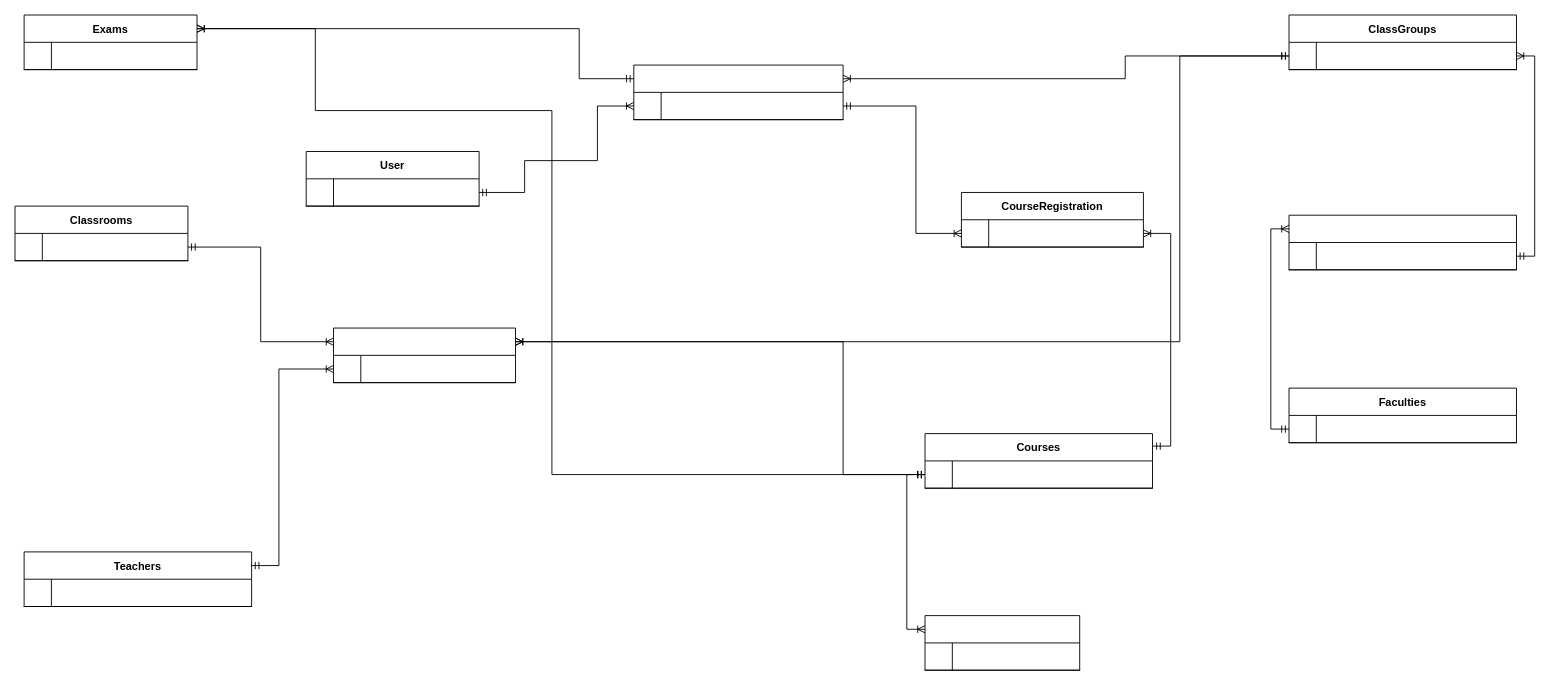
The diagram is 1550 pixels wide and 685 high, and some of its shapes have lost their labels. Here are the shapes that lost their labels. From the top down, the centre of each, then its label:
the point at 738,92: Students
the point at 1402,242: Specialities
the point at 424,355: Schedules
the point at 1002,642: CourseMaterial
